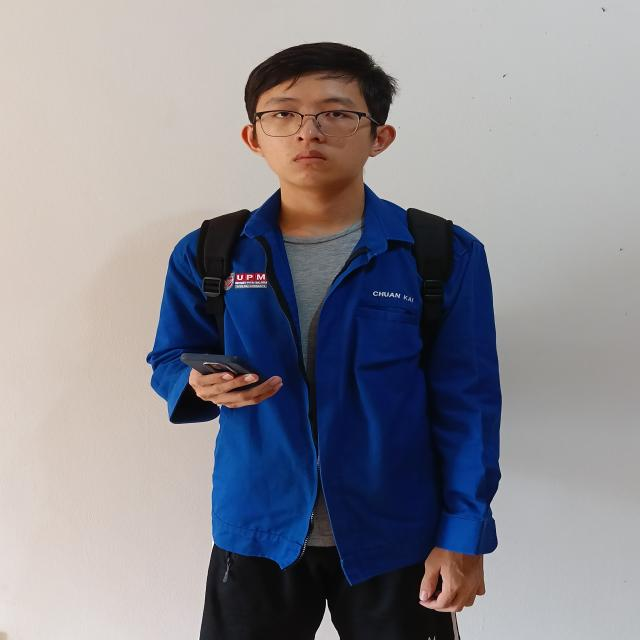person_with_labcoat: (148, 43, 501, 640)
